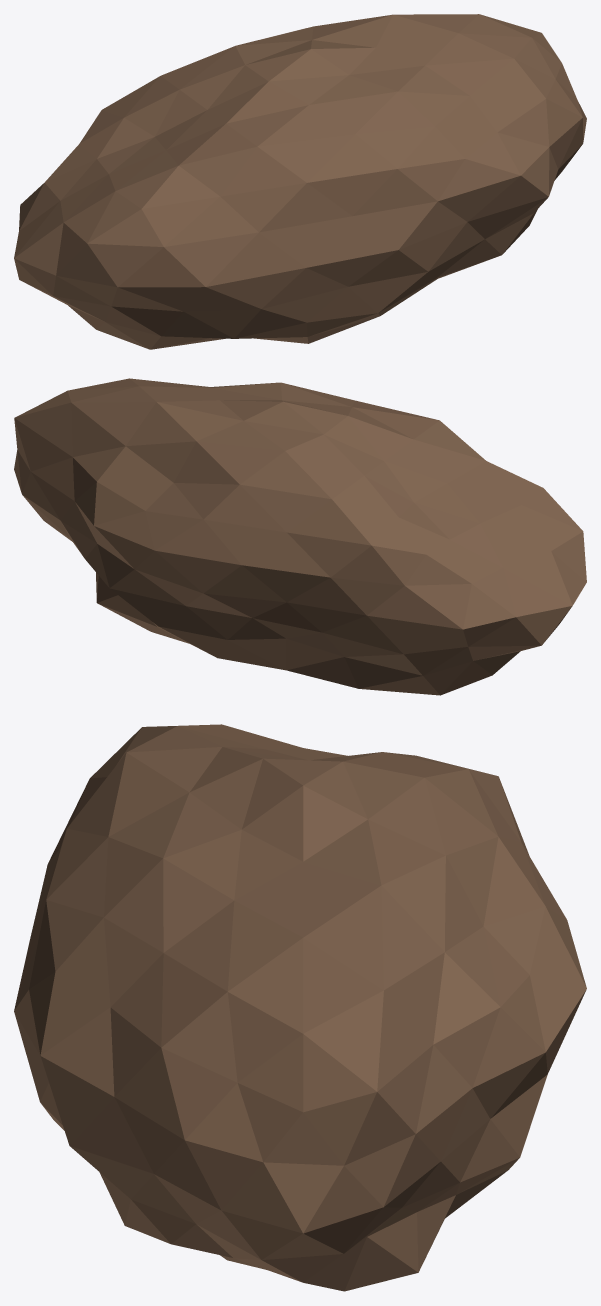
The model's file is asteroid_b.glb.
3 views of the same model, one above another, from view 1: azimuth 30°, elevation 25°; view 2: azimuth 150°, elevation 25°; view 3: azimuth 270°, elevation 25° (orthographic). The views are drawn at different scales.
Parts seen in each view (by area): view 1: rock; view 2: rock; view 3: rock.
Boxes of the visible parts, left/top/right/bottom form: rock: left=14, top=14, right=586, bottom=349; rock: left=14, top=378, right=586, bottom=695; rock: left=14, top=724, right=586, bottom=1291.
Size of what is drawn, in the model's own units: 16.15 by 7.12 by 8.47.
